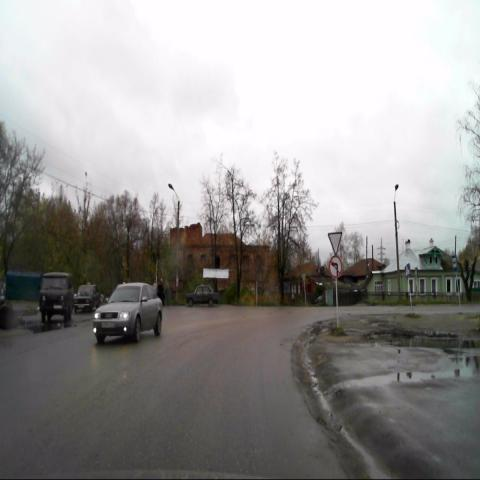3_18_2: (329, 255, 342, 279)
